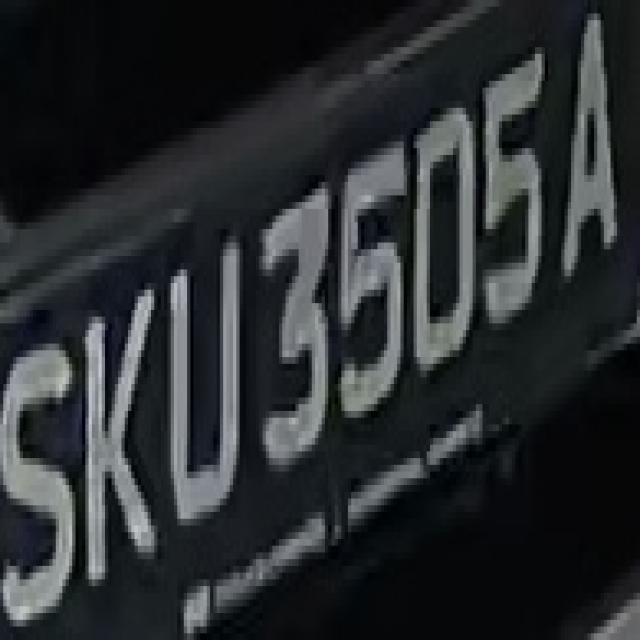0: (400, 101, 486, 398)
3: (253, 175, 341, 478)
5: (328, 134, 414, 418), (476, 61, 555, 330)
A: (551, 7, 637, 283)
K: (76, 276, 164, 600)
U: (158, 242, 250, 546)
